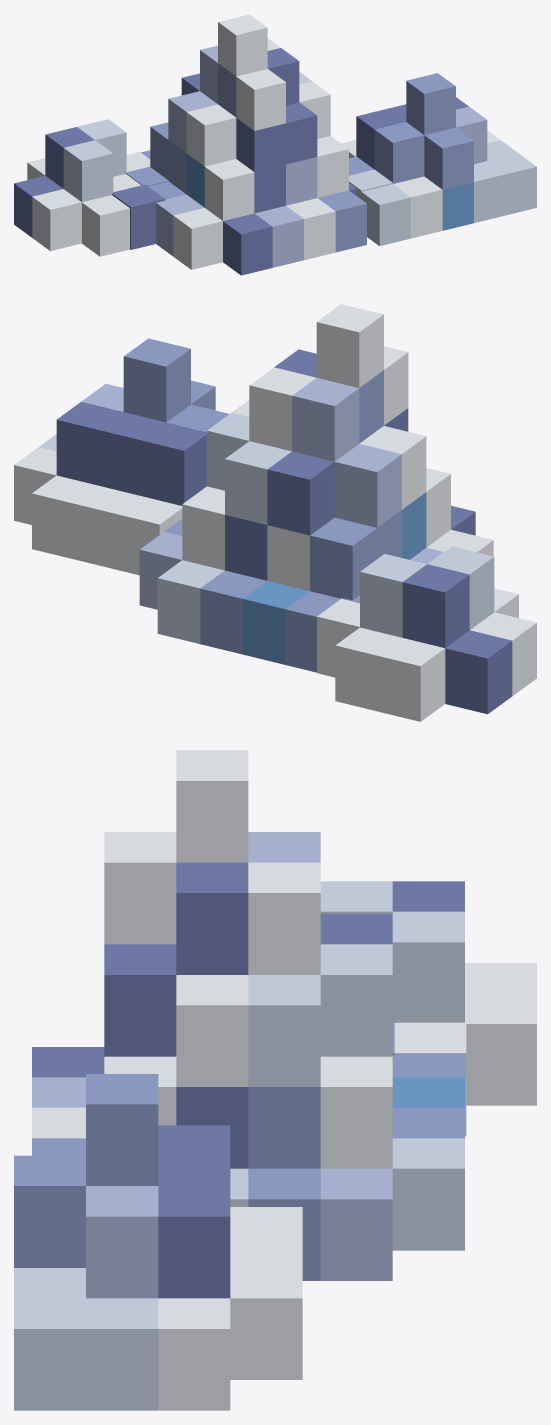
The model's file is IceRocks.glb.
3 views of the same model, one above another, from view 1: azimuth 30°, elevation 25°; view 2: azimuth 150°, elevation 25°; view 3: azimuth 270°, elevation 25° (orthographic). The views are drawn at different scales.
Parts seen in each view (by area): view 1: IceRocks; view 2: IceRocks; view 3: IceRocks.
Boxes of the visible parts, bbox=[...] form: IceRocks: bbox=[14, 14, 536, 275]; IceRocks: bbox=[14, 304, 536, 721]; IceRocks: bbox=[14, 750, 536, 1410].
Size of the model in its own units: 26 by 12.5 by 14.5.
Materials: 1 (1 with a texture image).
